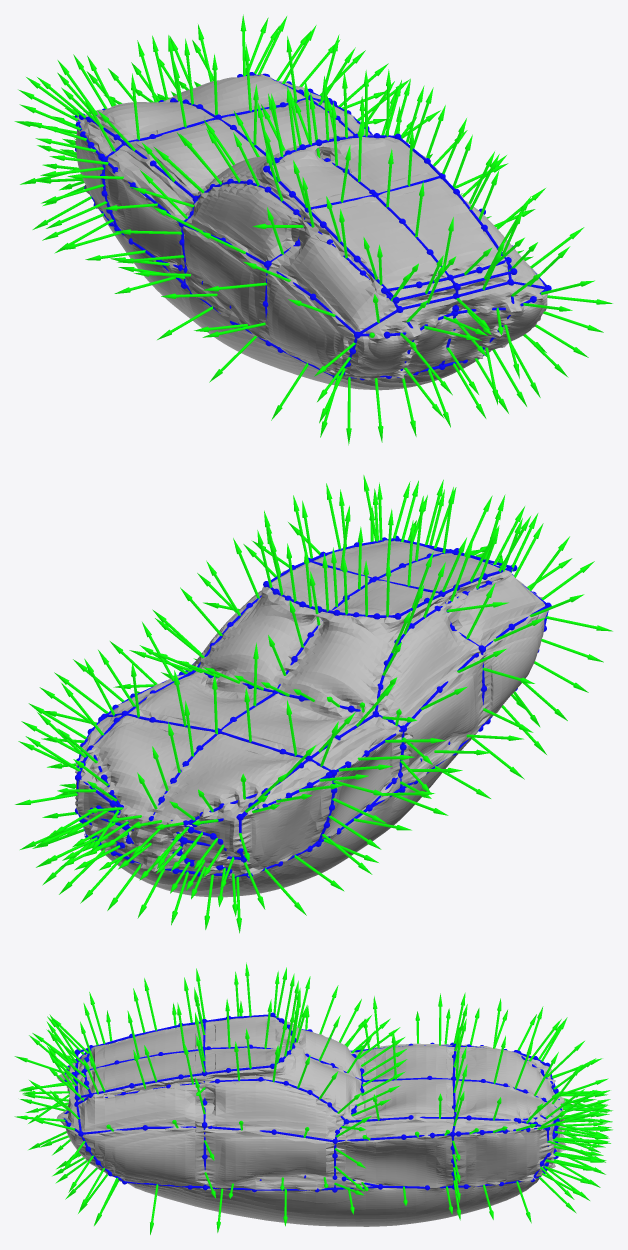
File: ils_car2.gltf
3 views of the same model, one above another, from view 1: azimuth 30°, elevation 25°; view 2: azimuth 150°, elevation 25°; view 3: azimuth 270°, elevation 25° (orthographic). The views are drawn at different scales.
Size of the model in its own units: 0.5792 by 0.4216 by 1.08.
